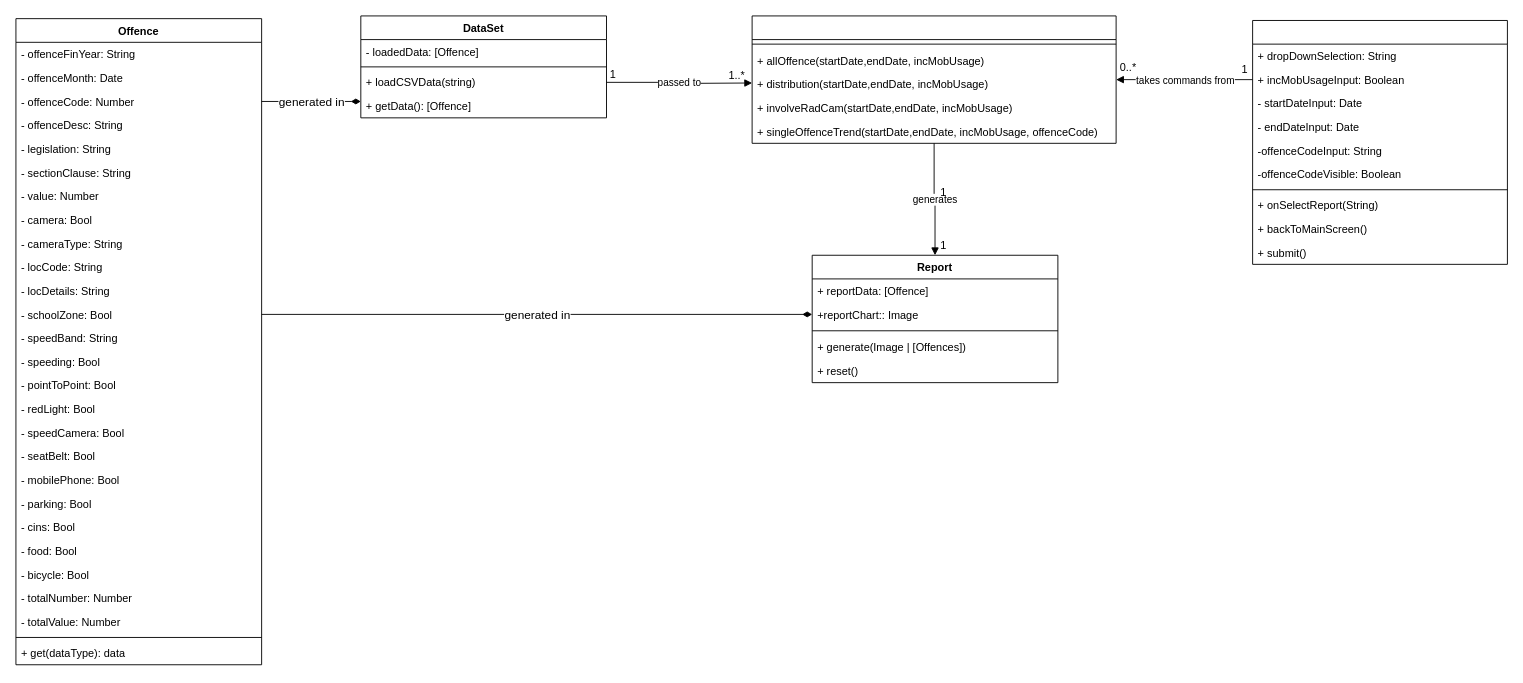
Image size: 1523x683. Some labels were removed from this diagram. Each missing label, with the box of its shape:
Algorithm: (751, 15, 1116, 143)
GUI: (1252, 20, 1507, 264)
